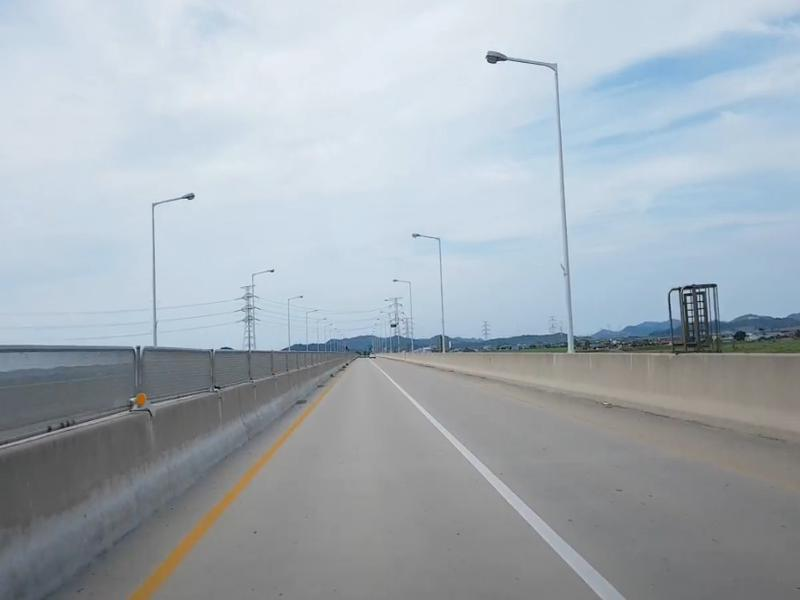lane: (392, 379, 576, 563), (169, 407, 319, 569)
